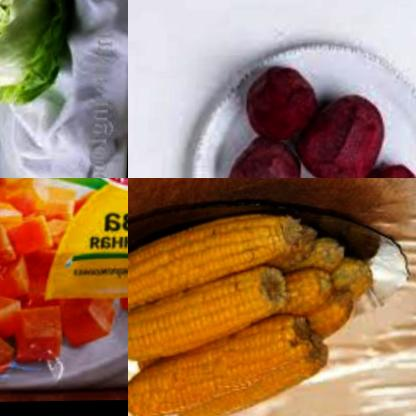beet: (305, 91, 385, 178), (239, 68, 324, 145), (227, 139, 304, 178)
corn: (128, 207, 305, 313), (128, 323, 318, 416), (128, 268, 292, 360), (171, 337, 334, 416), (270, 273, 336, 327), (323, 240, 374, 307), (279, 227, 346, 276)
pumpkin: (0, 178, 99, 388), (67, 295, 118, 344), (113, 286, 128, 325)
salad: (0, 0, 83, 108)
